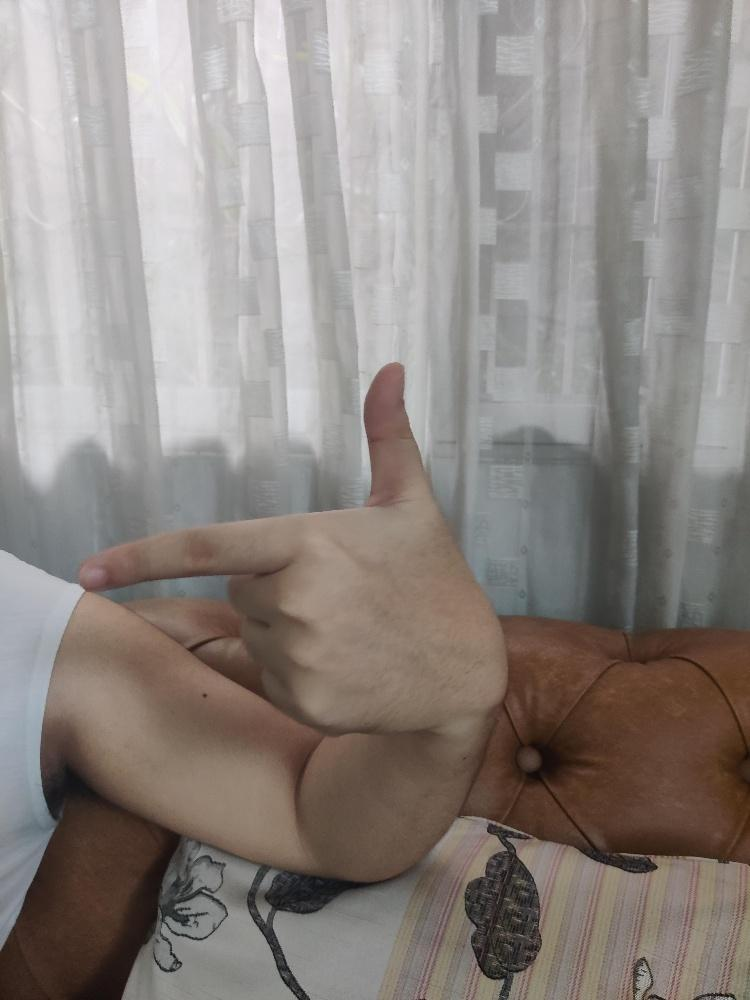g: (75, 358, 510, 740)
